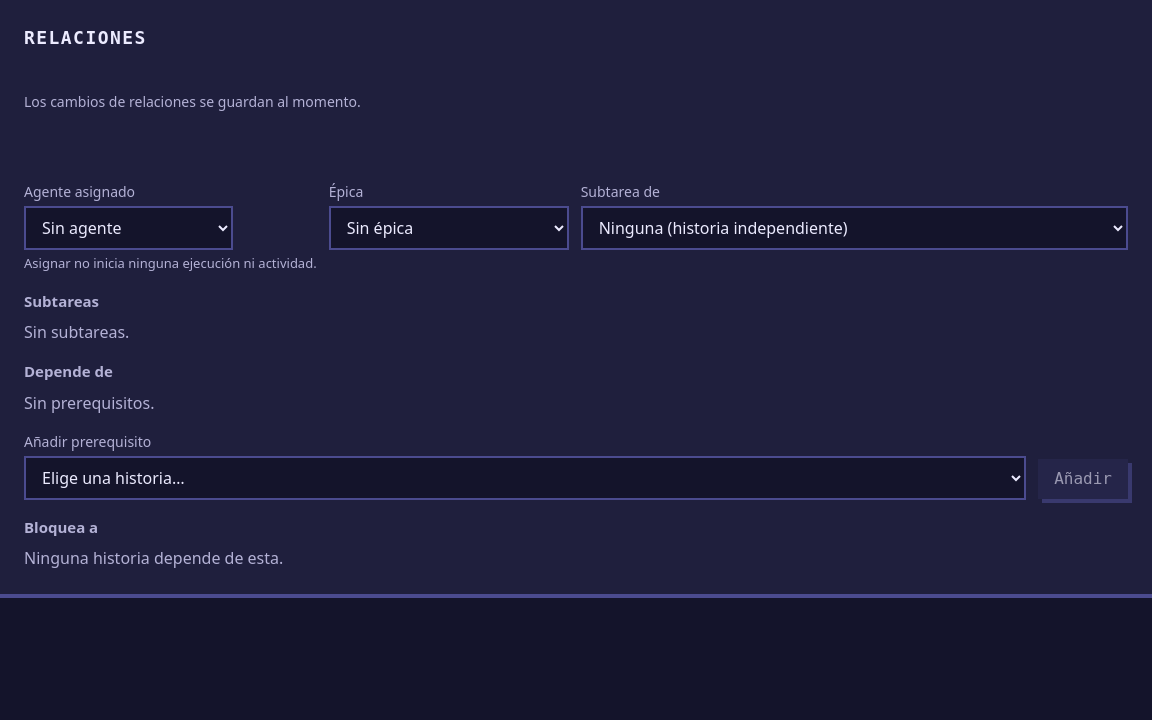
it: RelationsPanel › muestra el error de ciclo que devuelve el núcleo y no cambia nada
Select "#2 API" in the dropdown labelled "Añadir prerequisito" at (525, 478), box [24,456,1026,500]
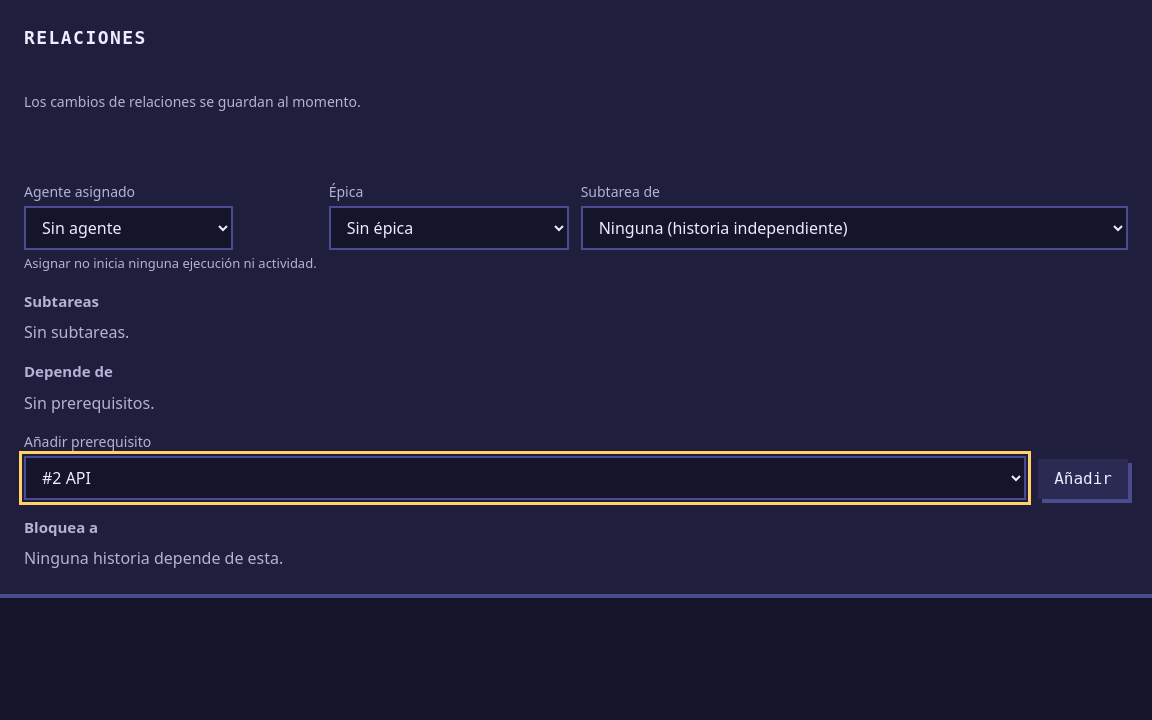
Click the button "Añadir" at (1083, 478), box [1038,458,1128,498]
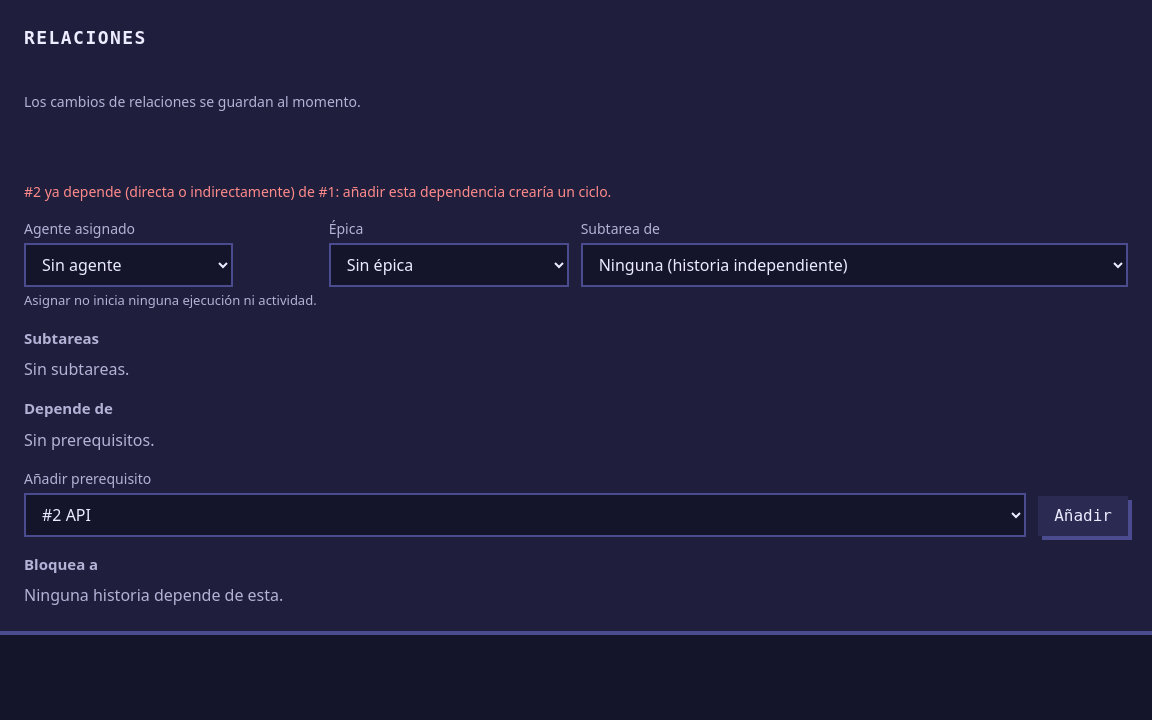
Expected: the text "Sin prerequisitos." is shown, [24,428,154,450]
Expected: the 2nd message shows "crearía un ciclo", [24,182,611,201]
